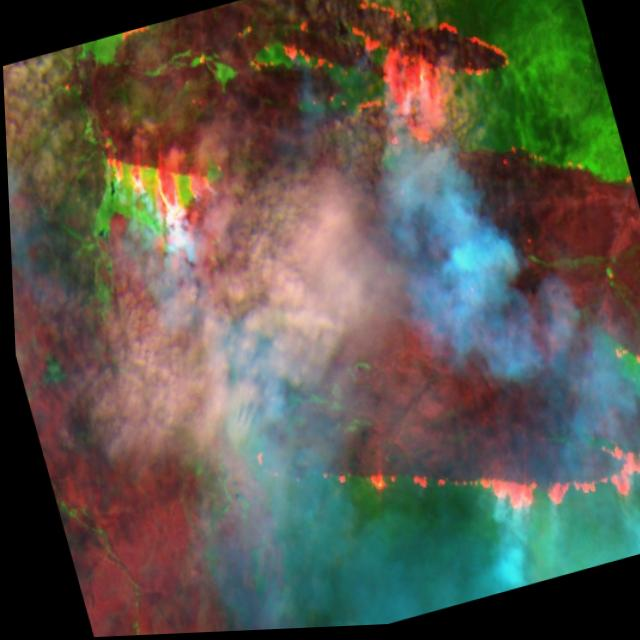fire: (230, 309, 640, 608), (260, 0, 524, 190), (87, 116, 229, 241)
